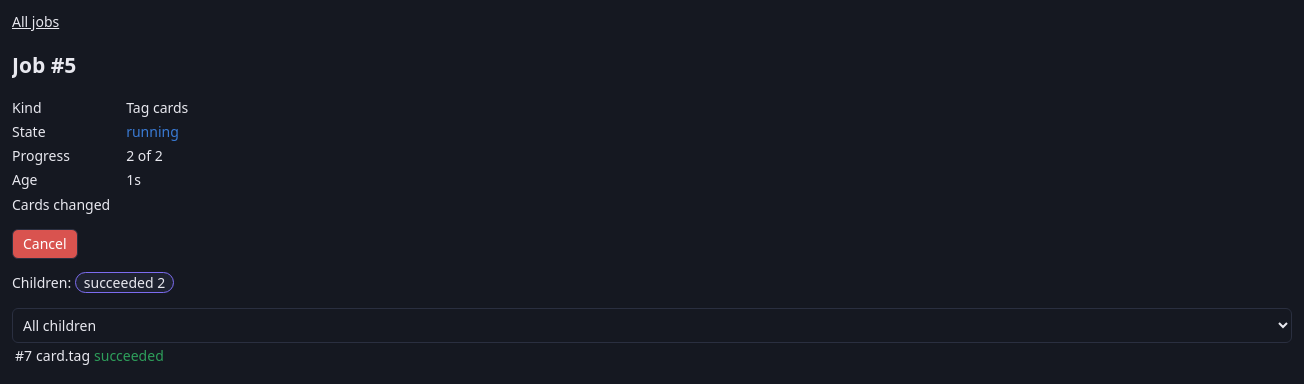
Test: a bulk job shows its children, follows events, and cancels
Expected: the text "card.tag" is shown, [35, 345, 91, 367]
Expected: the text "2 of 2" is shown, [126, 146, 163, 165]
Click the button "Cancel".
click(45, 244)  # box [12, 229, 78, 259]
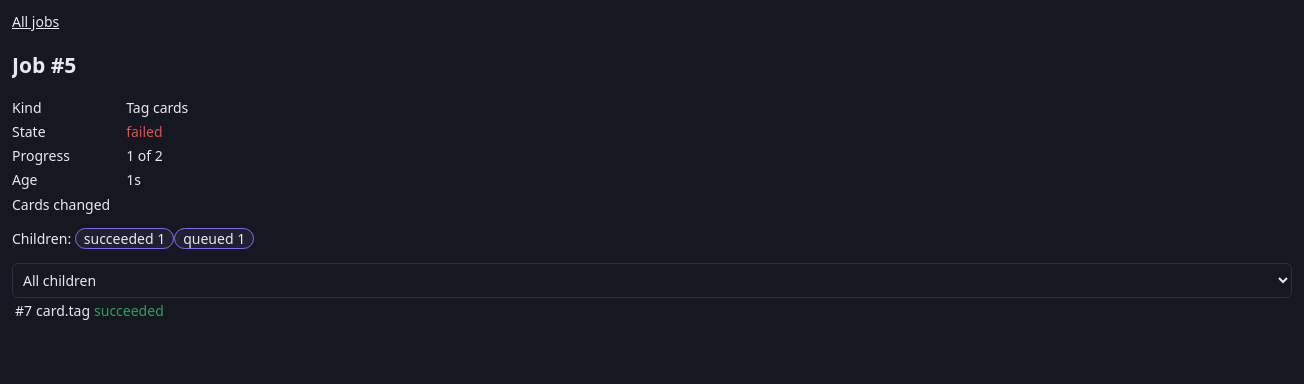
Now the text "failed" is shown, box [126, 122, 163, 141]
